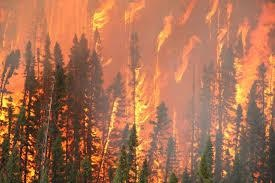fire: (47, 4, 267, 170)
